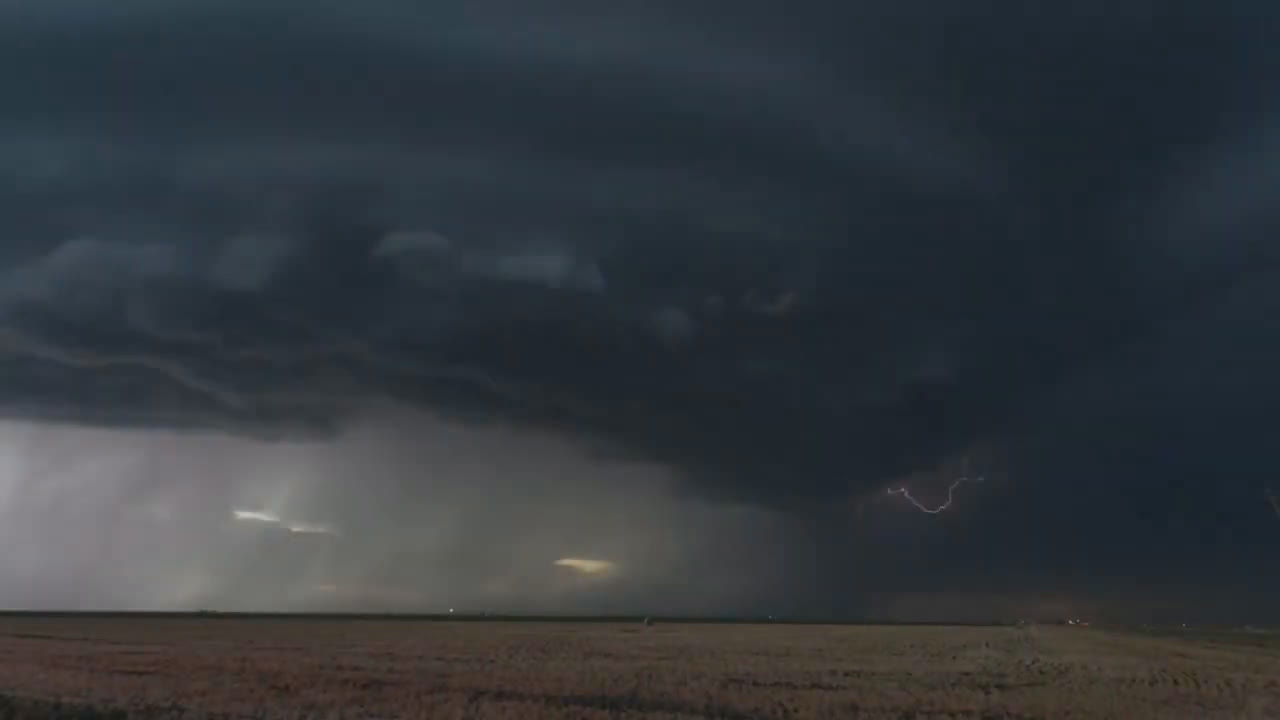FFD: (795, 397, 1280, 627)
RFD: (2, 421, 792, 624)
mesocyclone: (0, 0, 1280, 512)
striations: (1, 17, 989, 222)
wall cloud: (0, 224, 808, 446)
